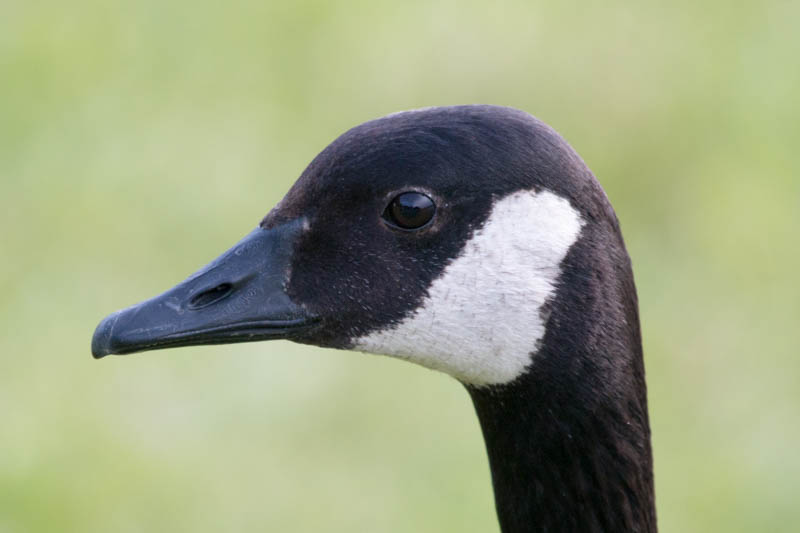goose-head: (90, 106, 640, 394)
